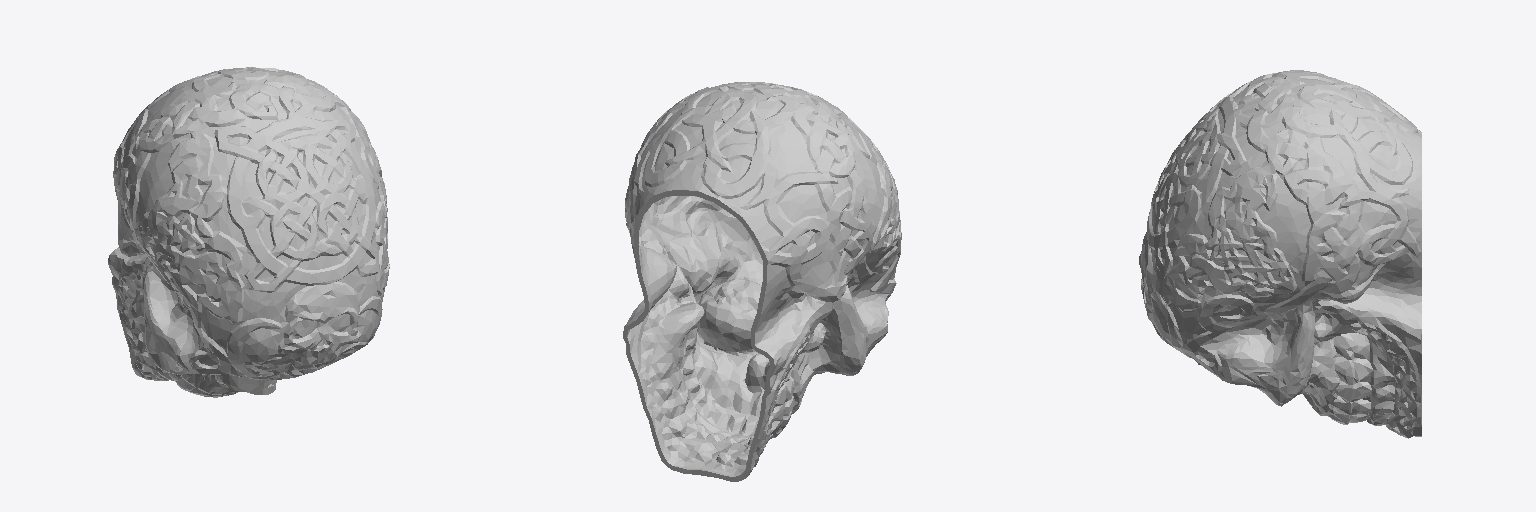
File: 321050-skull_QEM_90pct.obj
The picture shows the model from 3 angles: view 1: azimuth 30°, elevation 25°; view 2: azimuth 150°, elevation 25°; view 3: azimuth 270°, elevation 25°; orthographic projection.
Size of the model in its own units: 0.7098 by 1 by 0.7566.